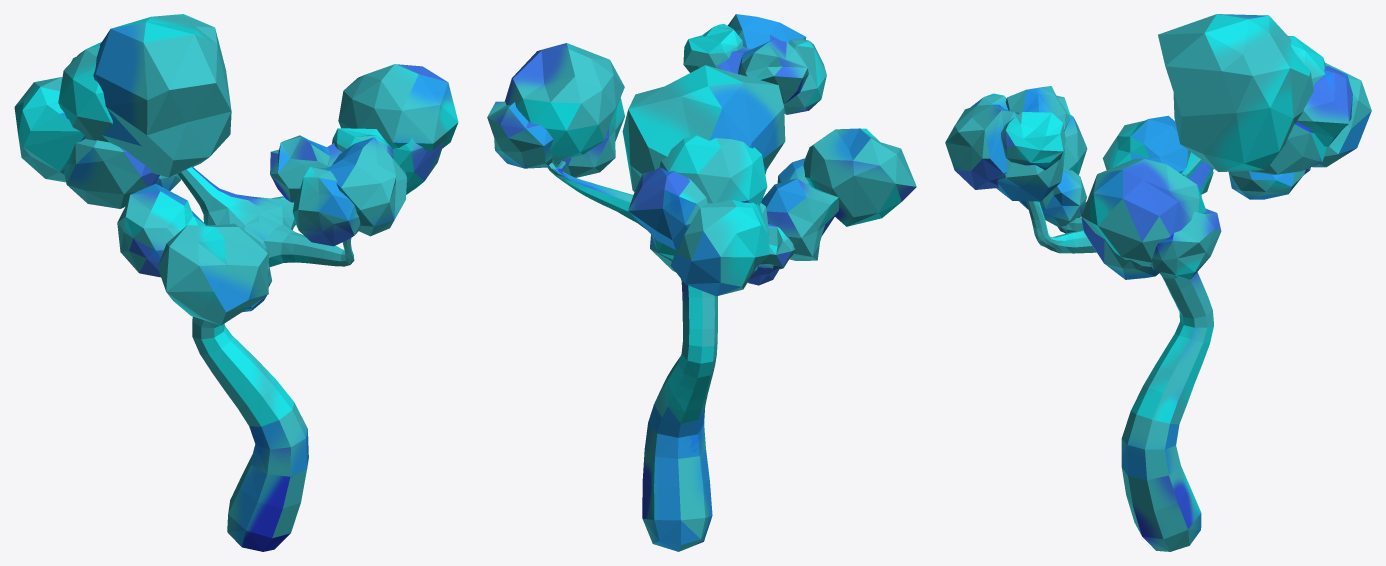
Rendered from tree2.fbx.
The picture shows the model from 3 angles, left to right: view 1: azimuth 30°, elevation 25°; view 2: azimuth 150°, elevation 25°; view 3: azimuth 270°, elevation 25°; orthographic projection. The views are drawn at different scales.
Parts seen in each view (by area): view 1: Cube; view 2: Cube; view 3: Cube.
Boxes of the visible parts, <box> form: Cube: <box>14,14,458,551</box>; Cube: <box>487,14,916,551</box>; Cube: <box>945,14,1371,551</box>.
Size of the model in its own units: 481 by 676 by 529.
Materials: 1 (1 with a texture image).
